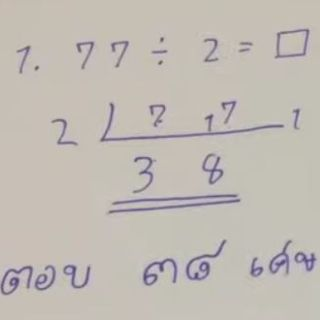.: (155, 57, 167, 68), (31, 62, 42, 73), (157, 34, 167, 44)
1: (14, 43, 33, 76), (290, 105, 301, 132), (203, 112, 215, 132)
2: (50, 116, 79, 147), (202, 35, 221, 64)
3: (130, 154, 155, 195)
7: (74, 38, 97, 72), (109, 38, 132, 70), (147, 101, 168, 130), (219, 99, 237, 127)
8: (200, 152, 225, 186)
